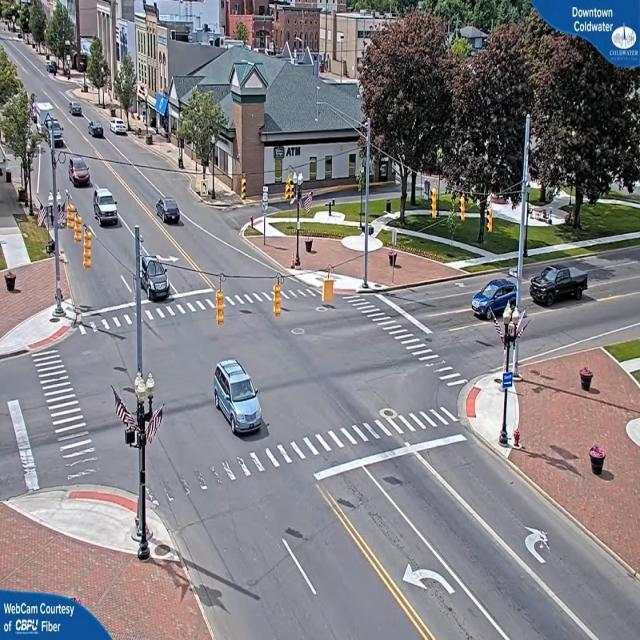car: (214, 358, 264, 437), (530, 267, 588, 308), (472, 278, 518, 320), (141, 256, 173, 304), (94, 190, 120, 228), (68, 155, 93, 189), (156, 198, 181, 224), (112, 120, 128, 136)
